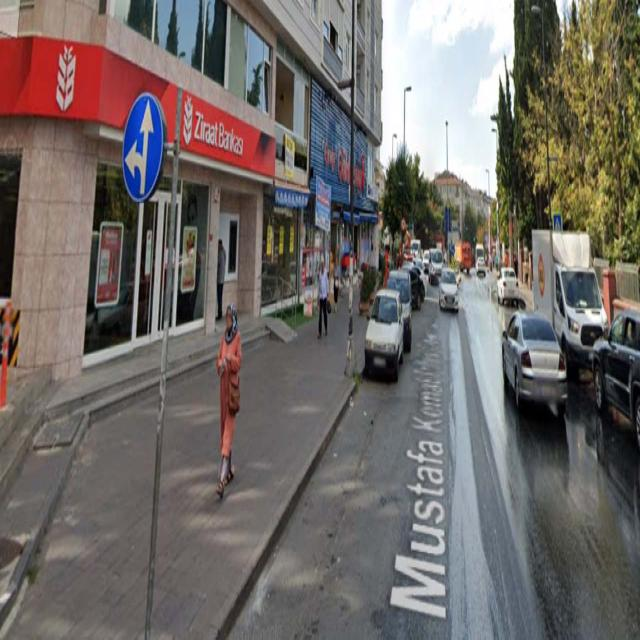ilerisol: (123, 97, 163, 203)
